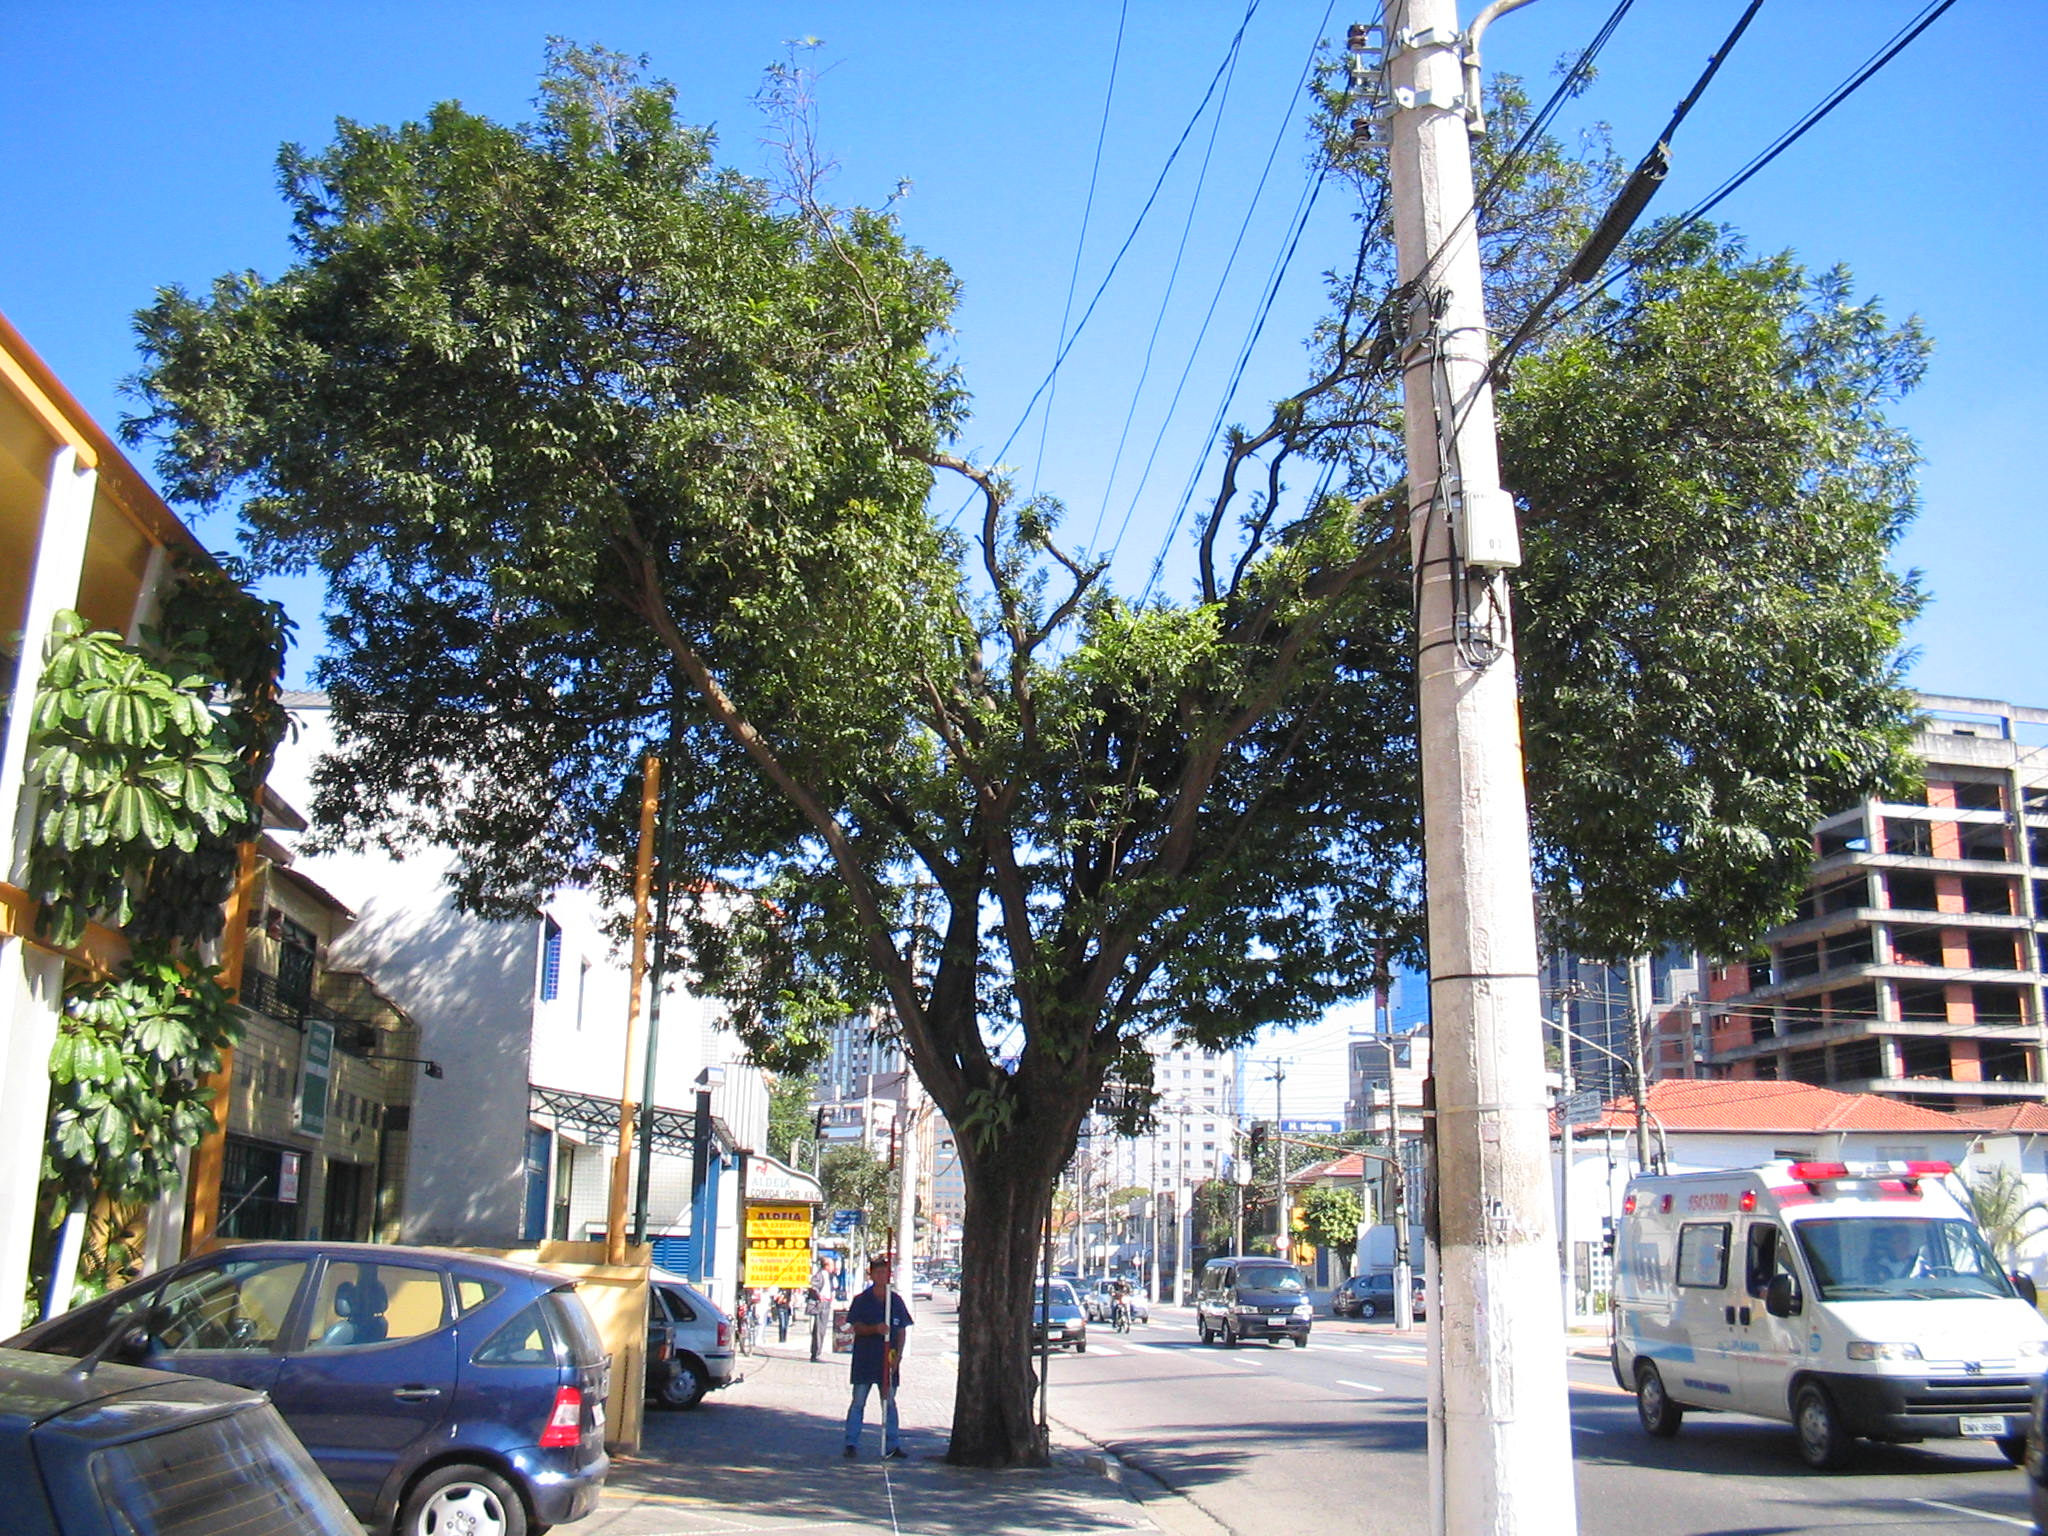crown: (121, 32, 1938, 1105)
stem: (922, 1136, 1100, 1463)
stick: (871, 1117, 906, 1457)
tree: (118, 26, 1943, 1467)
